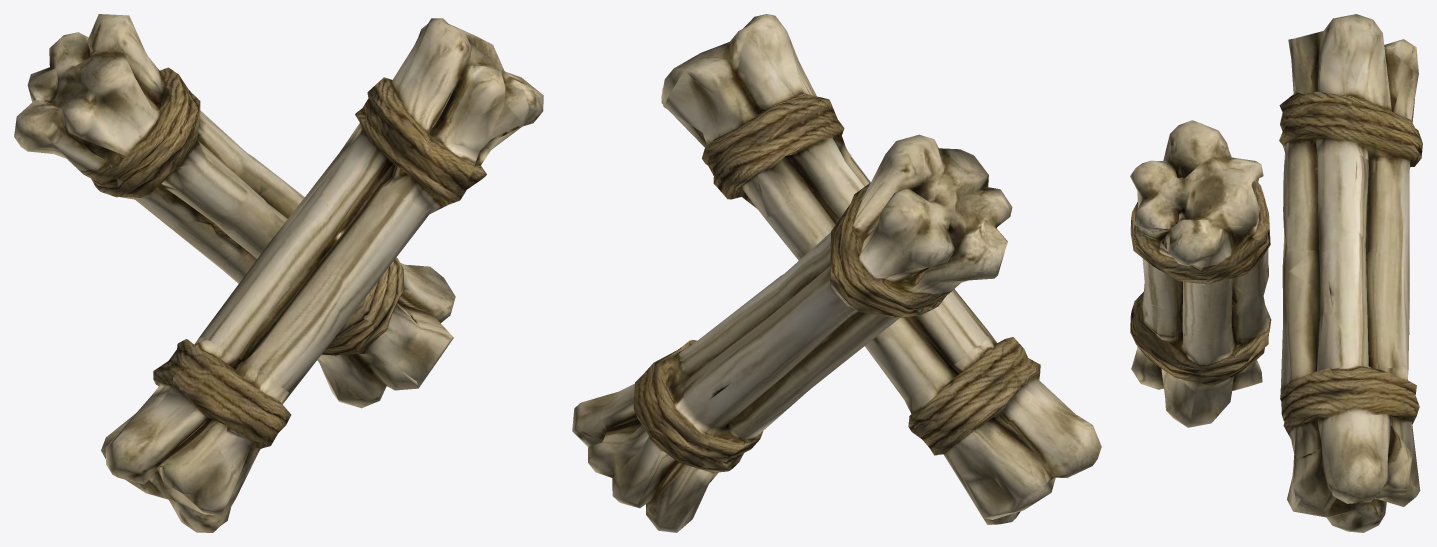
File: Bone_Arms_Armor.glb
3 views of the same model, side by side, from view 1: azimuth 30°, elevation 25°; view 2: azimuth 150°, elevation 25°; view 3: azimuth 270°, elevation 25° (orthographic). The views are drawn at different scales.
Size of the model in its own units: 1.89 by 1.89 by 1.23.
1 material, 1 textured.
